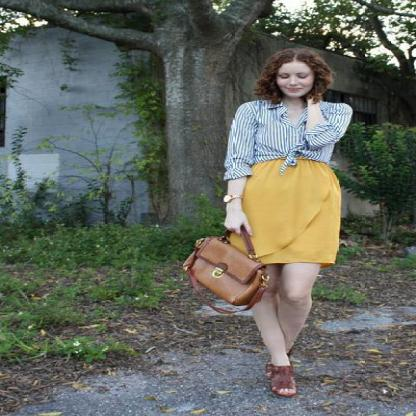bag: (182, 225, 274, 307)
shirt: (224, 100, 352, 177)
shoe: (266, 364, 298, 388)
skirt: (238, 158, 344, 268)
